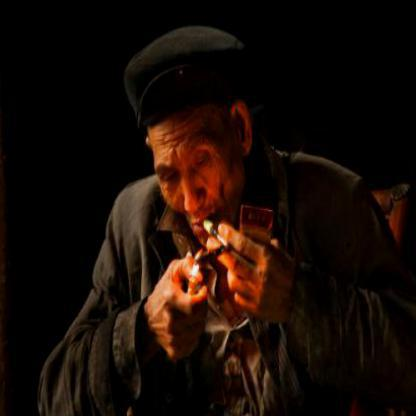person: (75, 29, 404, 415)
